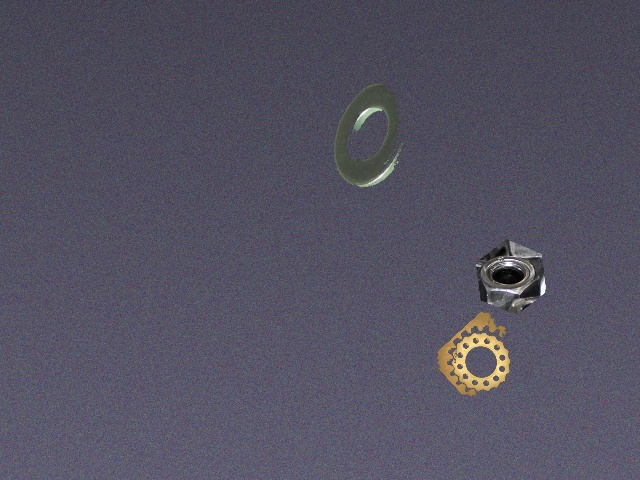gear: (437, 312, 510, 397)
nut: (476, 239, 546, 314)
washer: (334, 81, 406, 187)
